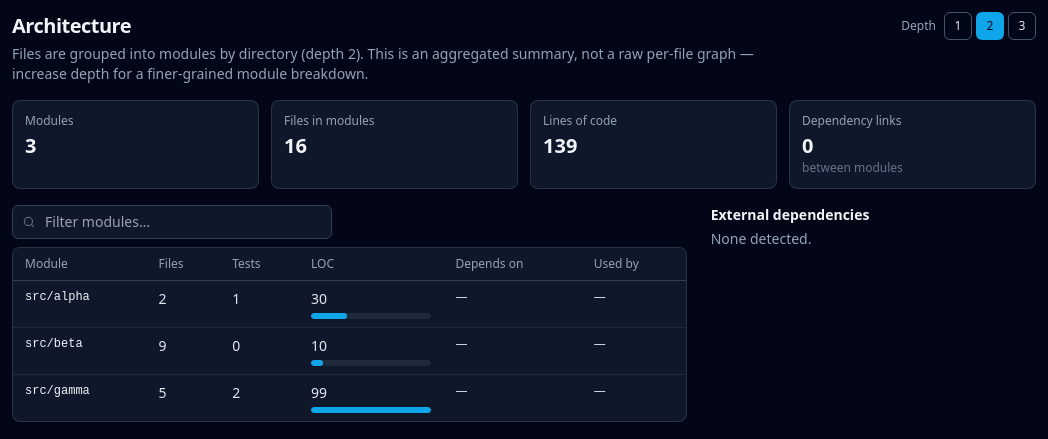
Test: ArchitecturePage › module table controls › filters modules by name and reports when nothing matches
Expected: the text "src/alpha" is shown, x1=13 y1=280 x2=147 y2=328
Type "bet" into the search field labelled "Filter modules".
click(172, 222); type("bet")  # box x1=12 y1=205 x2=332 y2=239
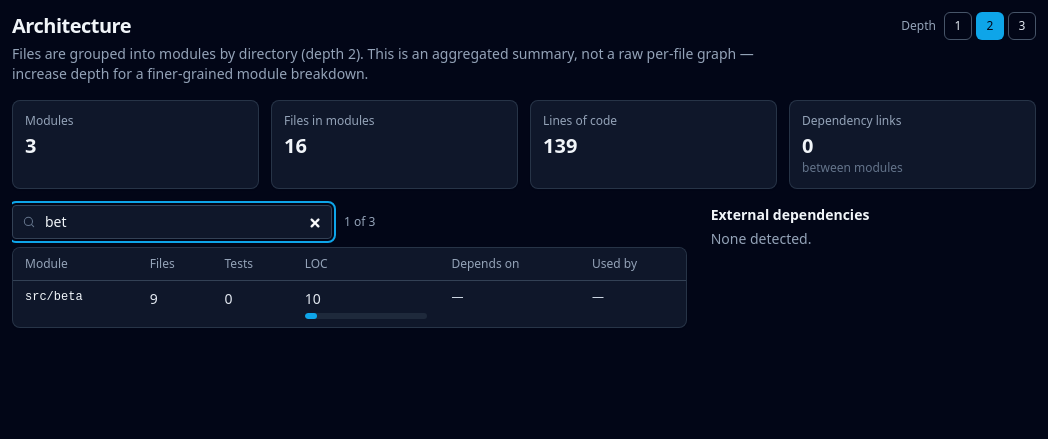
Replace the text in the search field named "Filter modules" with "zzz" at [172, 222], box x1=12 y1=205 x2=332 y2=239
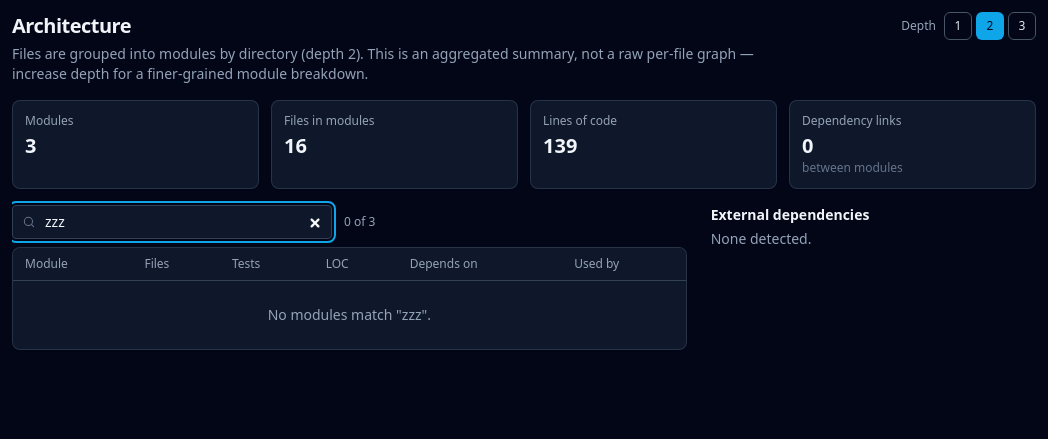
Now the text "No modules match \"zzz\"." is shown, box x1=13 y1=280 x2=686 y2=349
